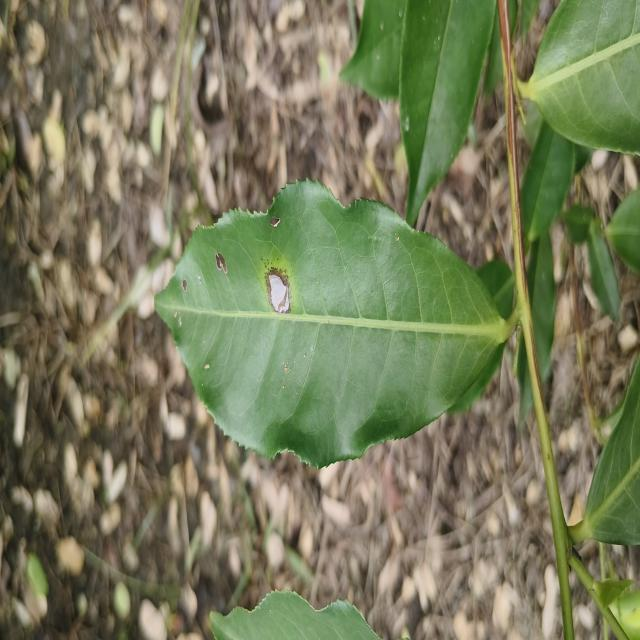Leaf: (155, 181, 512, 466), (399, 0, 496, 225), (519, 0, 640, 153), (569, 360, 640, 545), (210, 591, 379, 640), (520, 122, 575, 242), (340, 0, 405, 99), (527, 232, 556, 384), (587, 218, 620, 321), (517, 344, 534, 421), (562, 204, 594, 244)
